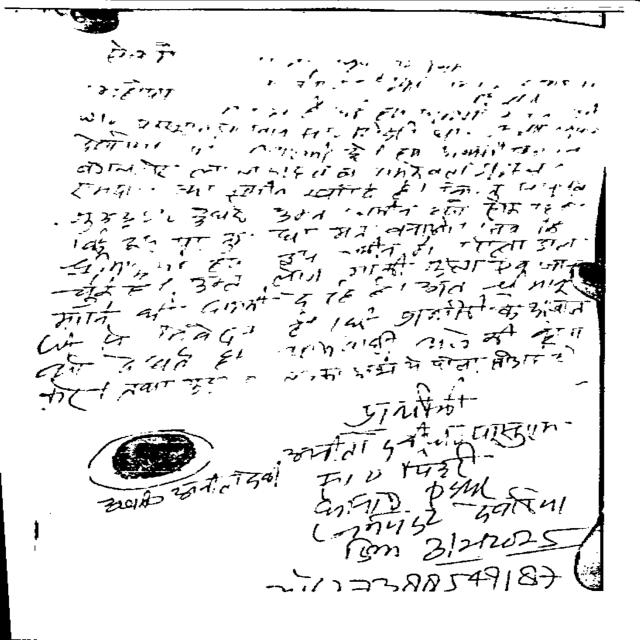fingerprint: (89, 432, 216, 479)
